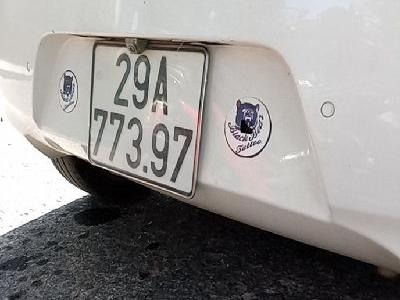lisence: (85, 41, 211, 202)
